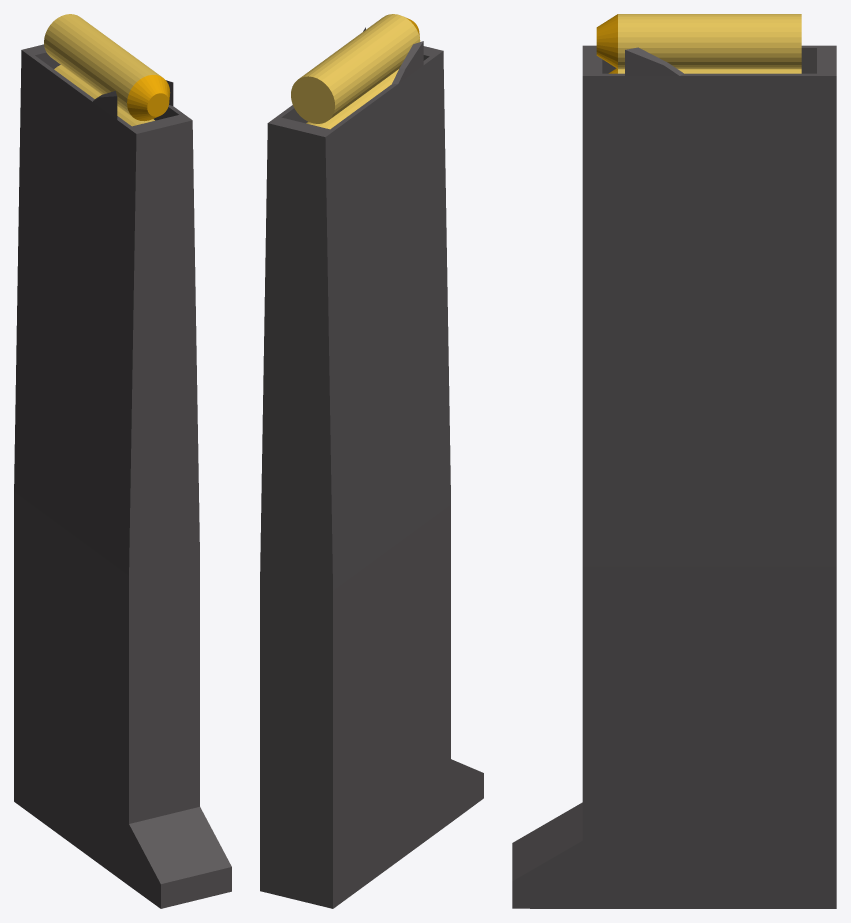
The model's file is ammoPickUp.fbx.
3 renders of one model, left to right at view 1: azimuth 30°, elevation 25°; view 2: azimuth 150°, elevation 25°; view 3: azimuth 270°, elevation 25°, orthographic. The views are drawn at different scales.
Visible parts, largest first — view 1: mag, bullet, bullet.002; view 2: mag, bullet, bullet.002; view 3: mag, bullet, bullet.002.
Part boxes in pixels (box(x1,y1,x2,y2)): mag: box(14, 44, 231, 908); bullet: box(44, 14, 170, 121); bullet.002: box(54, 65, 154, 126); mag: box(260, 27, 483, 908); bullet: box(291, 14, 420, 123); bullet.002: box(306, 69, 398, 129); mag: box(512, 45, 836, 908); bullet: box(596, 14, 801, 68); bullet.002: box(608, 68, 801, 73).
Bounding box in the file's own units: 19.84 × 211 × 70.97.
